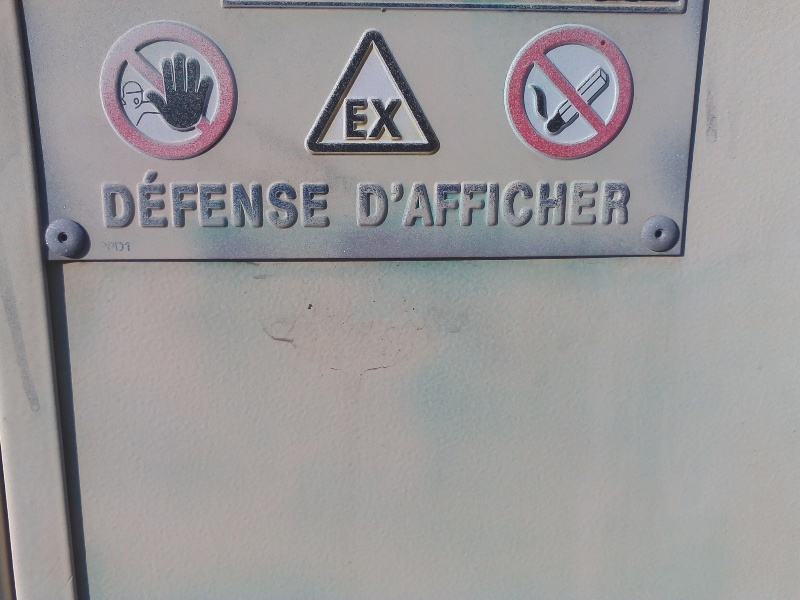text: (113, 168, 128, 231), (129, 168, 144, 231), (145, 168, 160, 231), (161, 168, 176, 231), (177, 168, 192, 231), (193, 168, 208, 231), (209, 168, 224, 231), (225, 168, 240, 231), (241, 168, 256, 231), (257, 168, 272, 231), (273, 168, 288, 231), (289, 168, 304, 231), (305, 168, 320, 231), (99, 168, 112, 231), (369, 180, 384, 229), (385, 180, 400, 229), (401, 180, 416, 229), (417, 180, 432, 229), (433, 180, 448, 229), (449, 180, 464, 229), (465, 180, 480, 229), (481, 180, 496, 229), (497, 180, 512, 229), (513, 180, 528, 229), (529, 180, 544, 229), (545, 180, 560, 229), (561, 180, 576, 229), (577, 180, 592, 229), (593, 180, 608, 229), (609, 180, 624, 229), (321, 168, 332, 231), (353, 97, 368, 141), (369, 97, 384, 141), (385, 97, 400, 141), (355, 180, 368, 229), (625, 180, 634, 229), (346, 97, 352, 141), (113, 240, 128, 254), (401, 97, 405, 141), (129, 240, 136, 254), (106, 240, 112, 254)
